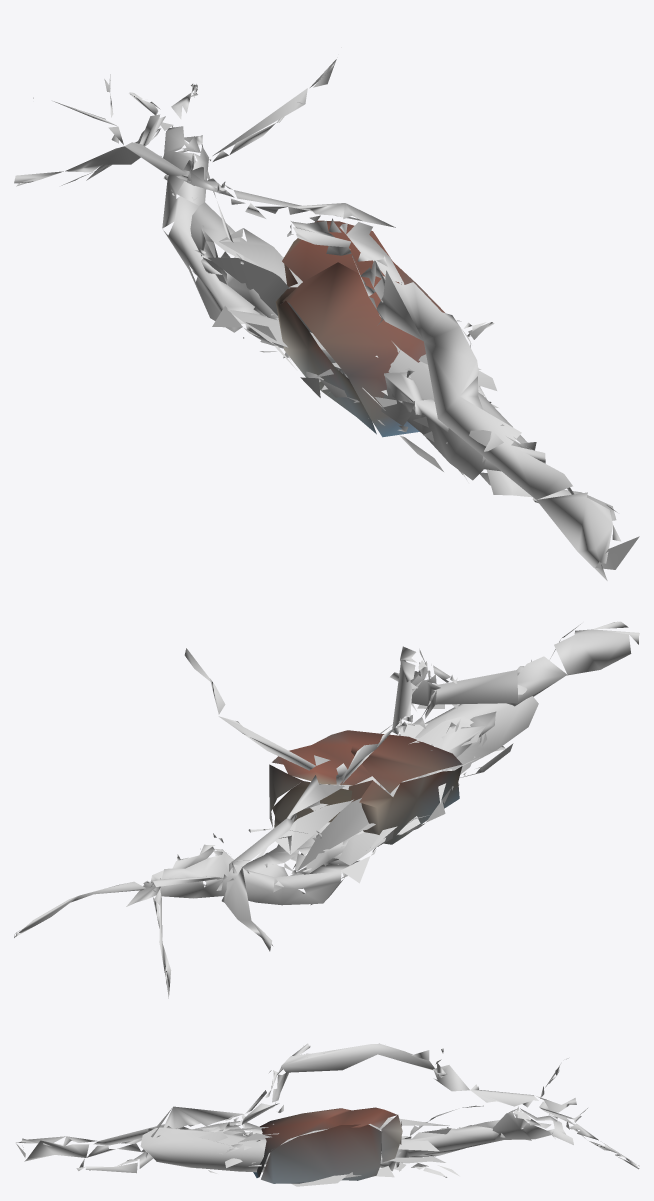
Rendered from litter.glb.
The picture shows the model from 3 angles, top to bottom: view 1: azimuth 30°, elevation 25°; view 2: azimuth 150°, elevation 25°; view 3: azimuth 270°, elevation 25°; orthographic projection. The views are drawn at different scales.
Parts seen in each view (by area): view 1: branch_a, stone_rock_07, branch_b, branch_c, bark_d, bark_b, bark_a; view 2: branch_a, stone_rock_07, branch_b, bark_d, branch_c, bark_a, bark_b; view 3: stone_rock_07, branch_a, branch_c, branch_b, bark_d, bark_a, bark_b, bark_c.
Part boxes in pixels (box(x1,y1,x2,y2)): branch_a: box(14, 59, 639, 580); stone_rock_07: box(275, 220, 444, 437); branch_b: box(160, 126, 616, 520); branch_c: box(190, 171, 536, 485); bark_d: box(208, 228, 496, 474); bark_b: box(246, 307, 498, 410); bark_a: box(212, 306, 287, 347); branch_a: box(14, 621, 639, 998); stone_rock_07: box(269, 730, 462, 844); branch_b: box(126, 660, 531, 906); bark_d: box(264, 701, 513, 871); branch_c: box(242, 685, 538, 892); bark_a: box(277, 780, 385, 883); bark_b: box(324, 734, 479, 866); stone_rock_07: box(253, 1107, 402, 1183); branch_a: box(16, 1043, 639, 1169); branch_c: box(140, 1105, 505, 1172); branch_b: box(76, 1106, 573, 1173); bark_d: box(195, 1117, 451, 1163); bark_a: box(249, 1136, 408, 1186); bark_b: box(219, 1130, 321, 1167); bark_c: box(208, 1124, 459, 1177).
Bounding box in the file's own units: 0.319 × 0.3448 × 1.3.
